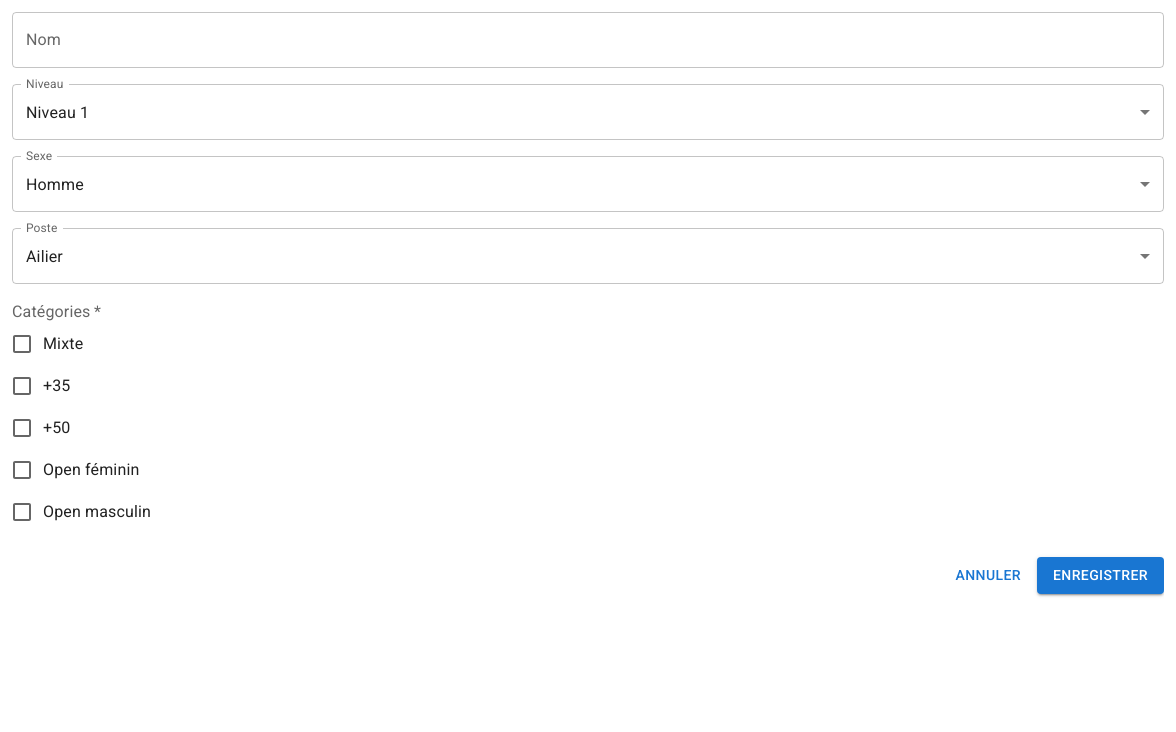
Test: PlayerForm › devrait afficher les erreurs de validation
Click the button "Enregistrer". click: {"x": 1100, "y": 575}
box: [1037,557,1164,594]
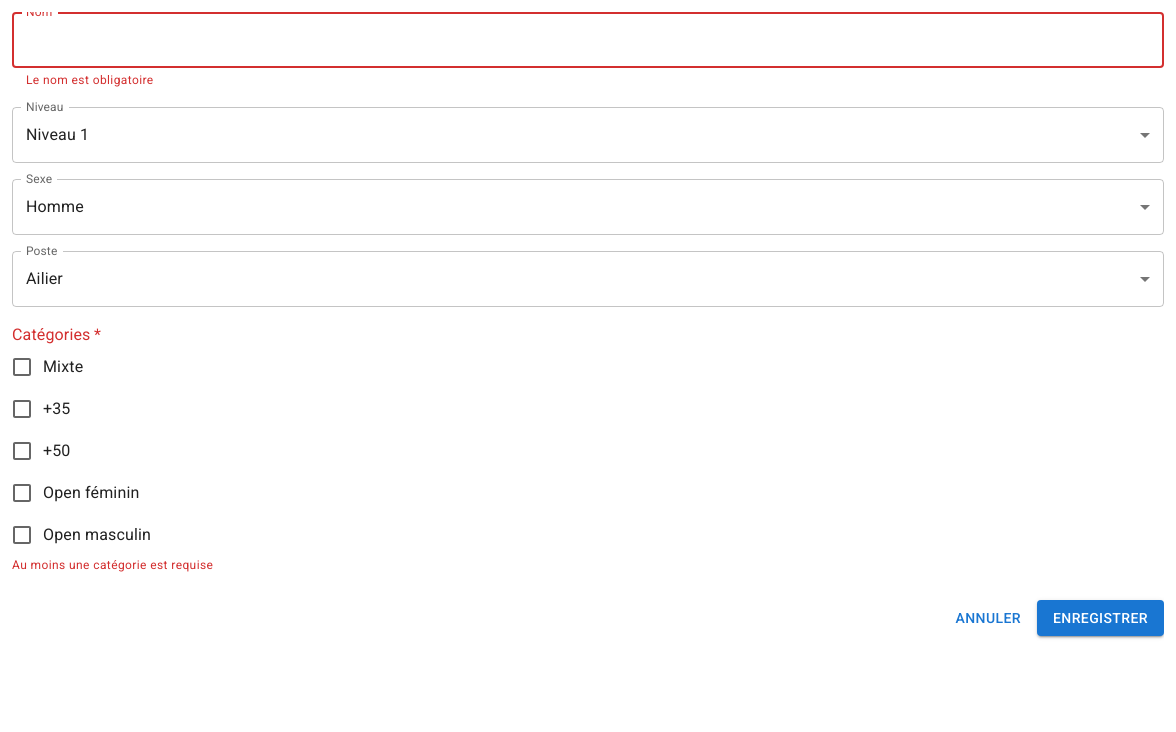
Result: the text "Le nom est obligatoire" is shown at [26,73,154,87]
